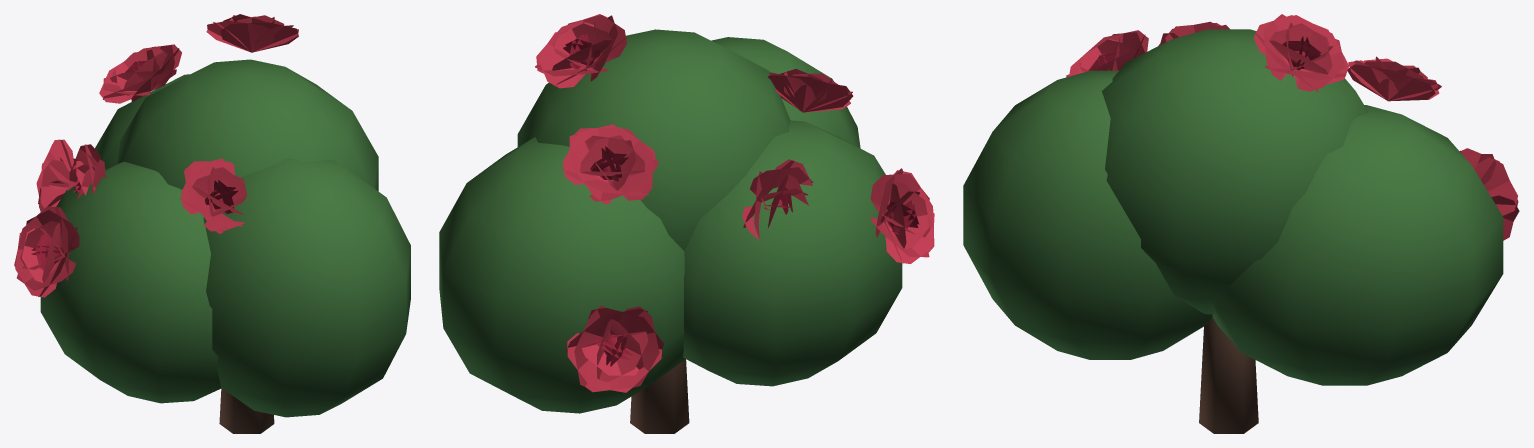
The model's file is ing_rose_red.glb.
The picture shows the model from 3 angles, left to right: view 1: azimuth 30°, elevation 25°; view 2: azimuth 150°, elevation 25°; view 3: azimuth 270°, elevation 25°; orthographic projection. The views are drawn at different scales.
Parts seen in each view (by area): view 1: ing_rose_red; view 2: ing_rose_red; view 3: ing_rose_red.
Boxes of the visible parts, x1=… form: ing_rose_red: x1=14, y1=14, x2=410, y2=433; ing_rose_red: x1=439, y1=14, x2=934, y2=433; ing_rose_red: x1=963, y1=14, x2=1519, y2=433.
Size of what is drawn, in the model's own units: 0.6703 by 0.6752 by 0.8217.
